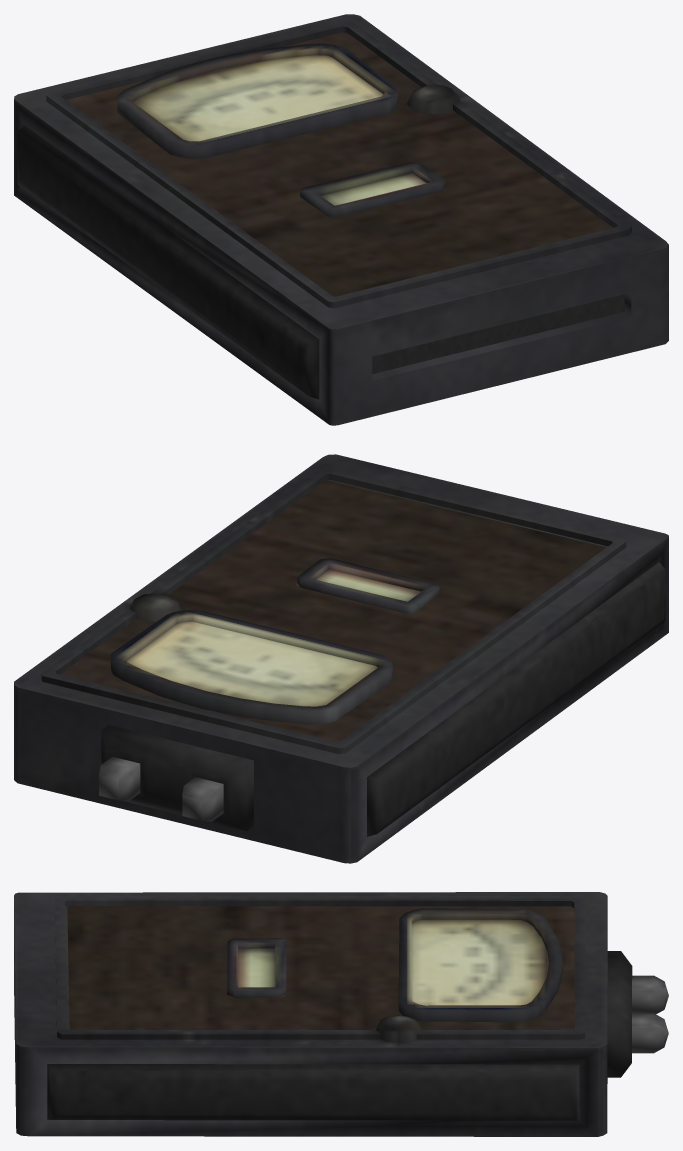
Rendered from dosimeter_3.obj.
3 renders of one model, top to bottom at view 1: azimuth 30°, elevation 25°; view 2: azimuth 150°, elevation 25°; view 3: azimuth 270°, elevation 25°, orthographic. The views are drawn at different scales.
Parts seen in each view (by area): view 1: dosimeter_3; view 2: dosimeter_3; view 3: dosimeter_3.
Boxes of the visible parts, box(x1,y1,x2,y2) form: dosimeter_3: box(14, 14, 668, 425); dosimeter_3: box(14, 454, 668, 863); dosimeter_3: box(14, 892, 668, 1136).
Bounding box in the file's own units: 0.1602 × 0.045 × 0.2667.
